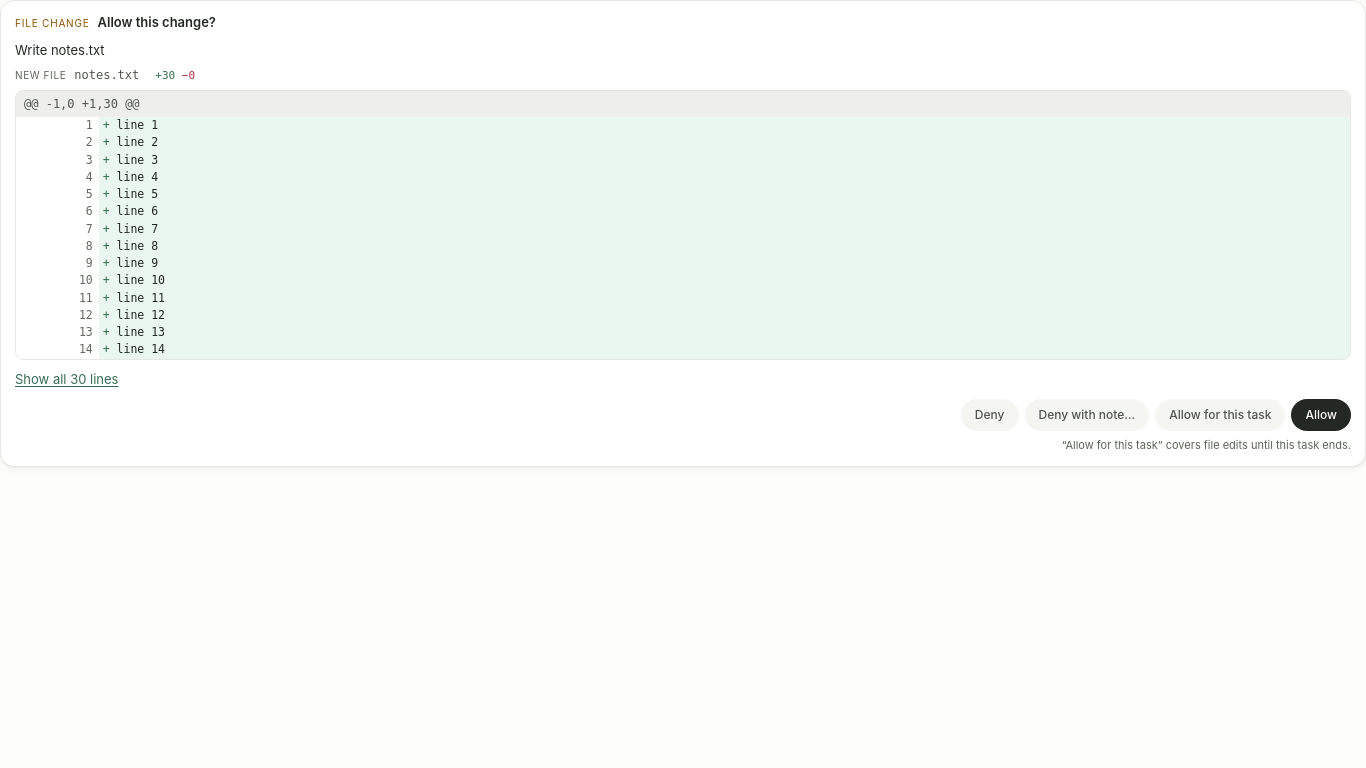
Scenario: ApprovalCard › previews a new file, truncated with Show all
Expected: the text "New file" is shown, [15,68,66,82]
Expected: the text "notes.txt" is shown, [74,66,139,84]
Click the button "Show all 30 lines".
click(67, 379)  # box [15,370,118,389]
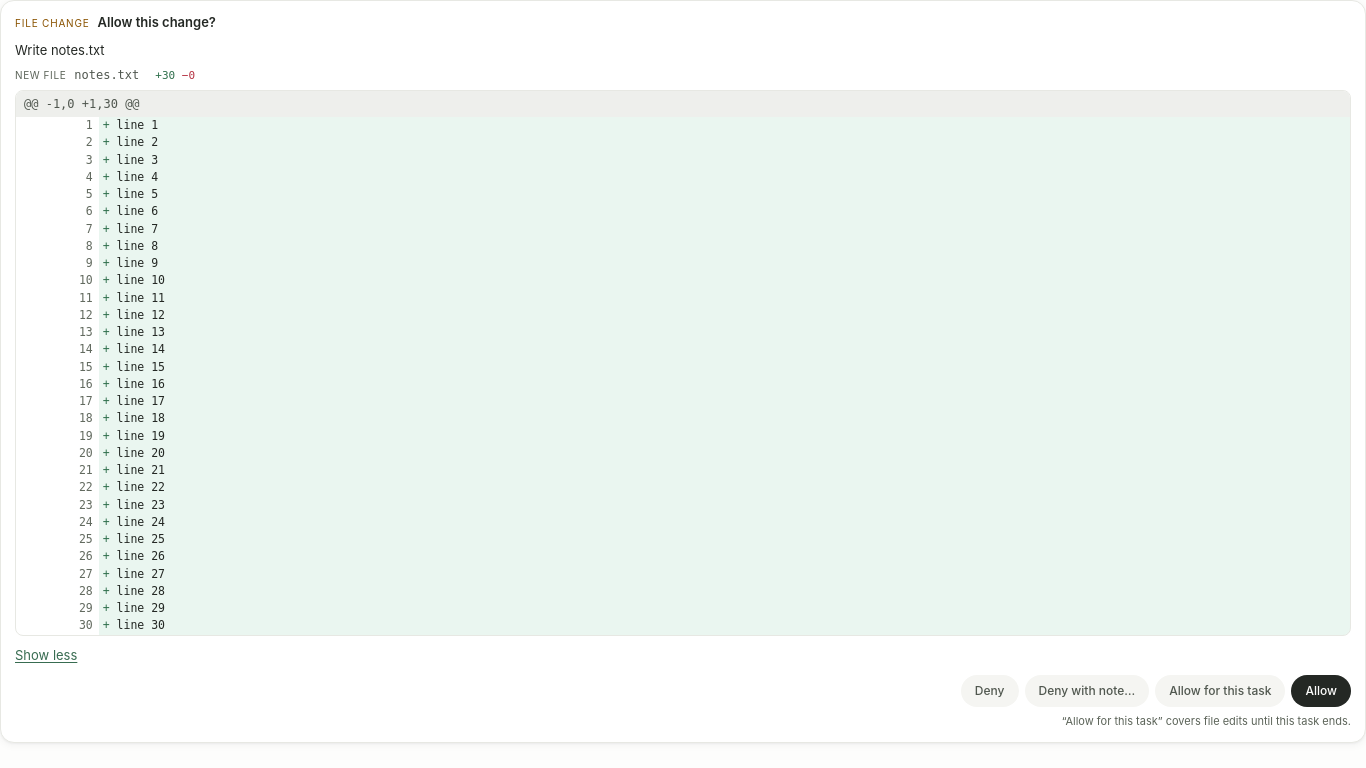
Expected: the text "line 30" is shown, [117,618,165,632]
Click the button "Show less".
click(46, 655)  # box [15,646,77,665]
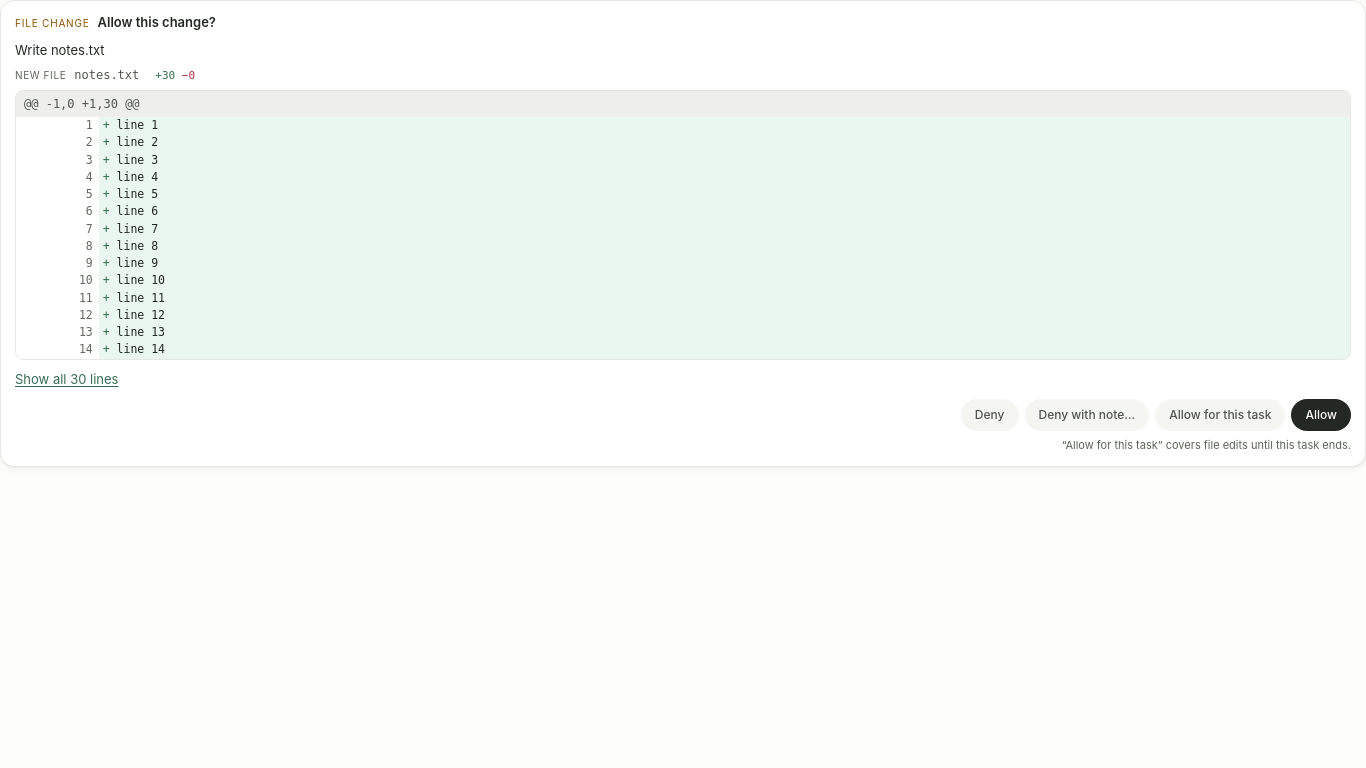
Expected: the text "line 30" is gone
